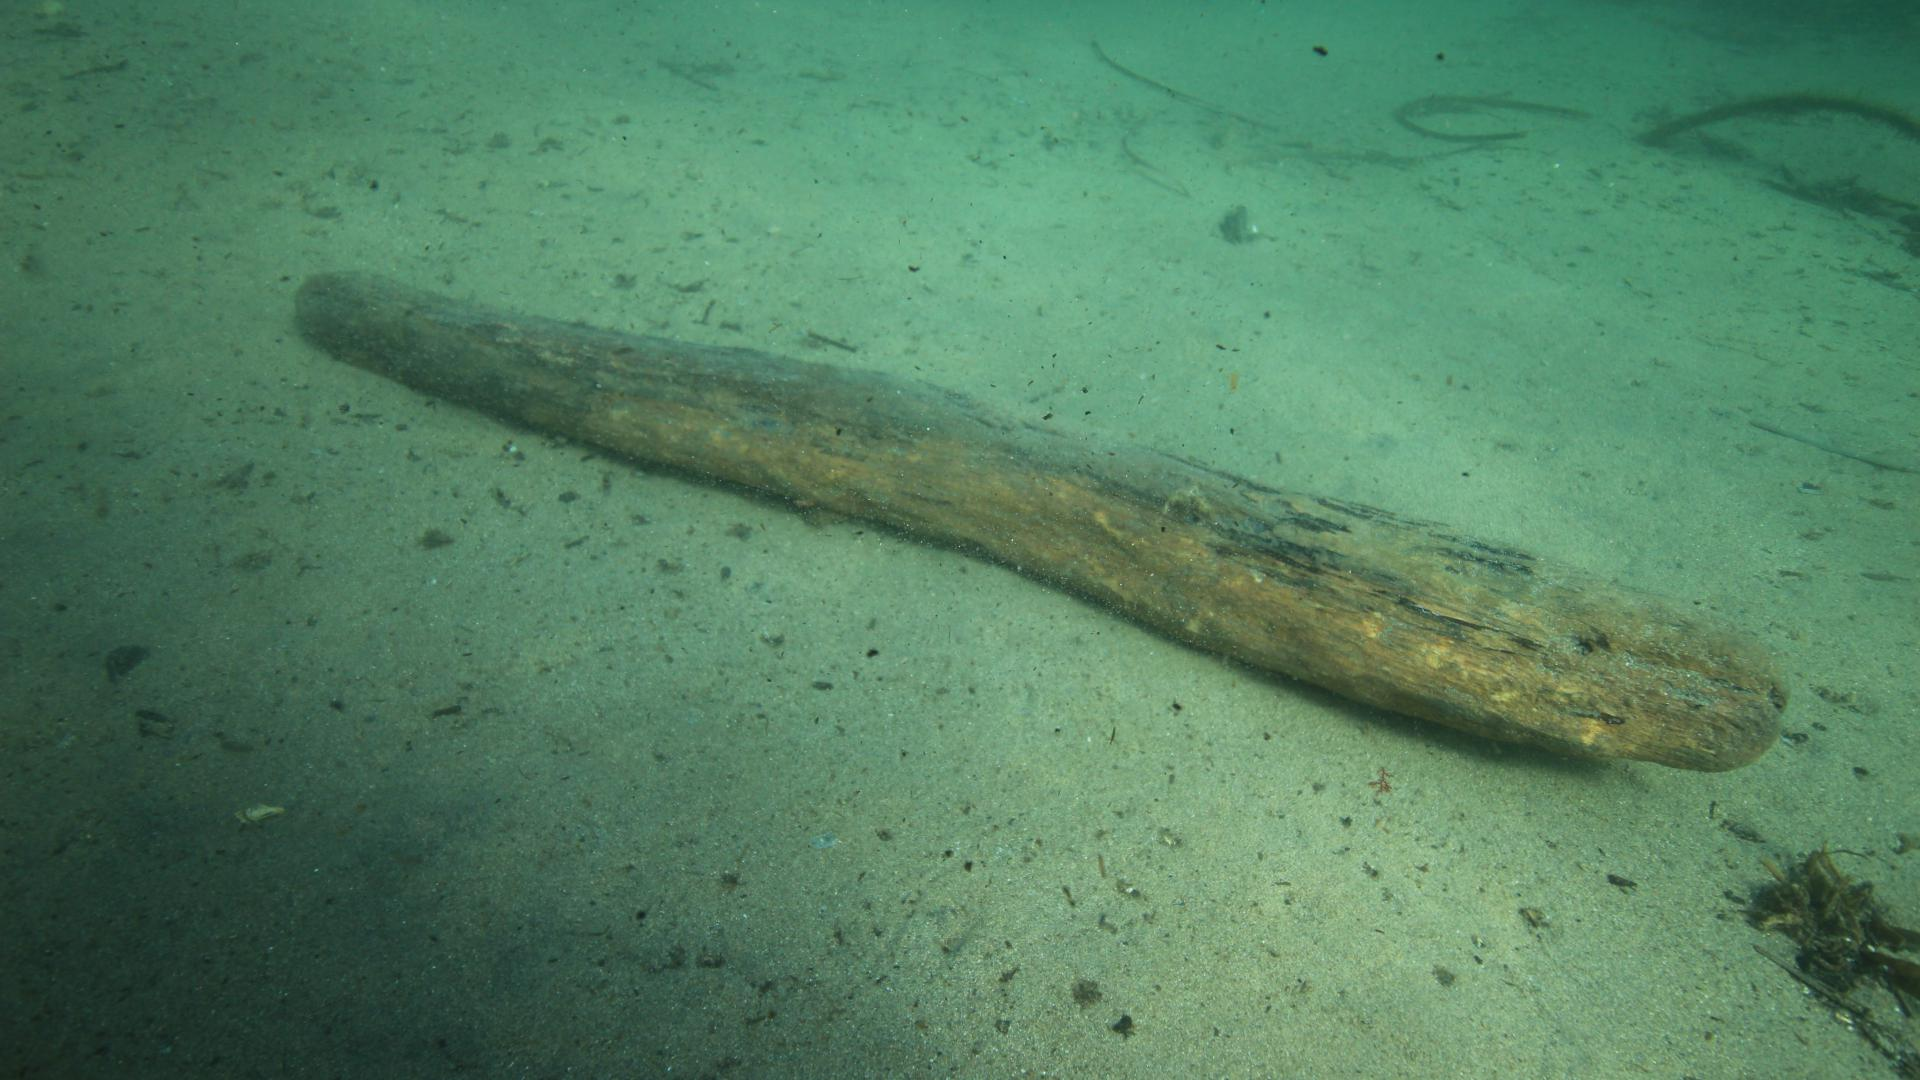wood: (295, 268, 1789, 771)
